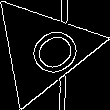O_SW: (8, 16, 79, 83)
